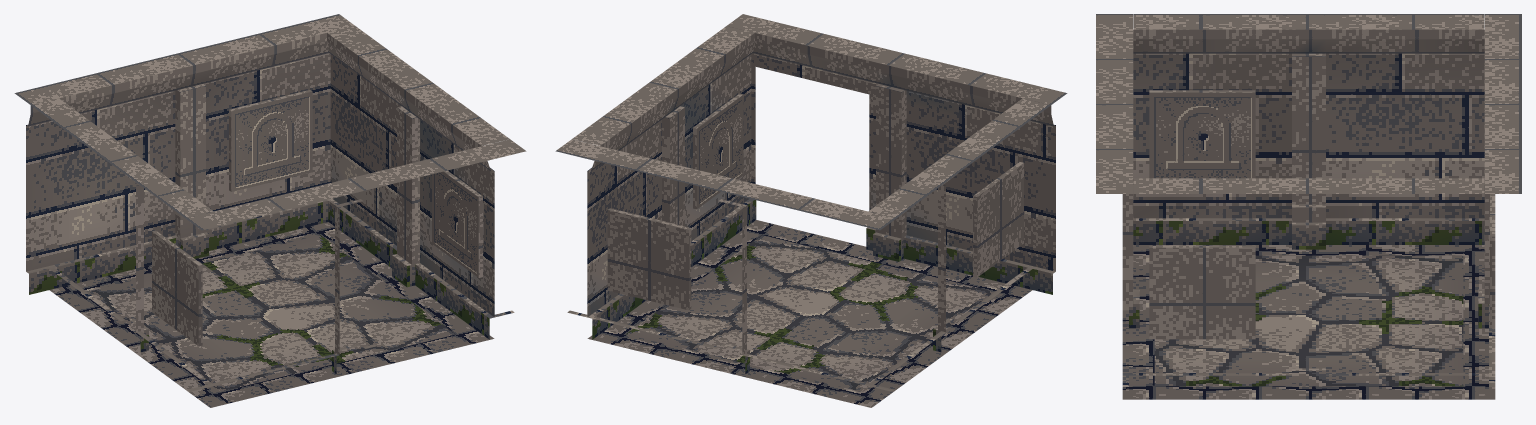
File: dgn.room__shrine.glb
The picture shows the model from 3 angles, left to right: view 1: azimuth 30°, elevation 25°; view 2: azimuth 150°, elevation 25°; view 3: azimuth 270°, elevation 25°; orthographic projection. The views are drawn at different scales.
Parts seen in each view (by area): view 1: kit_shell_walls, kit_shell_floor, kit_reliefs; view 2: kit_shell_walls, kit_shell_floor, kit_reliefs; view 3: kit_shell_walls, kit_shell_floor, kit_reliefs.
Part boxes in pixels (x1,y1,x2,y2): kit_shell_walls: (14, 14, 526, 391); kit_shell_floor: (49, 222, 494, 407); kit_reliefs: (152, 90, 482, 346); kit_shell_walls: (555, 14, 1067, 391); kit_shell_floor: (587, 220, 1032, 407); kit_reliefs: (607, 93, 1023, 310); kit_shell_walls: (1096, 14, 1521, 386); kit_shell_floor: (1122, 245, 1495, 399); kit_reliefs: (1149, 90, 1495, 339).
Bounding box in the file's own units: 8 × 4.5 × 8.
6 materials, 6 textured.
